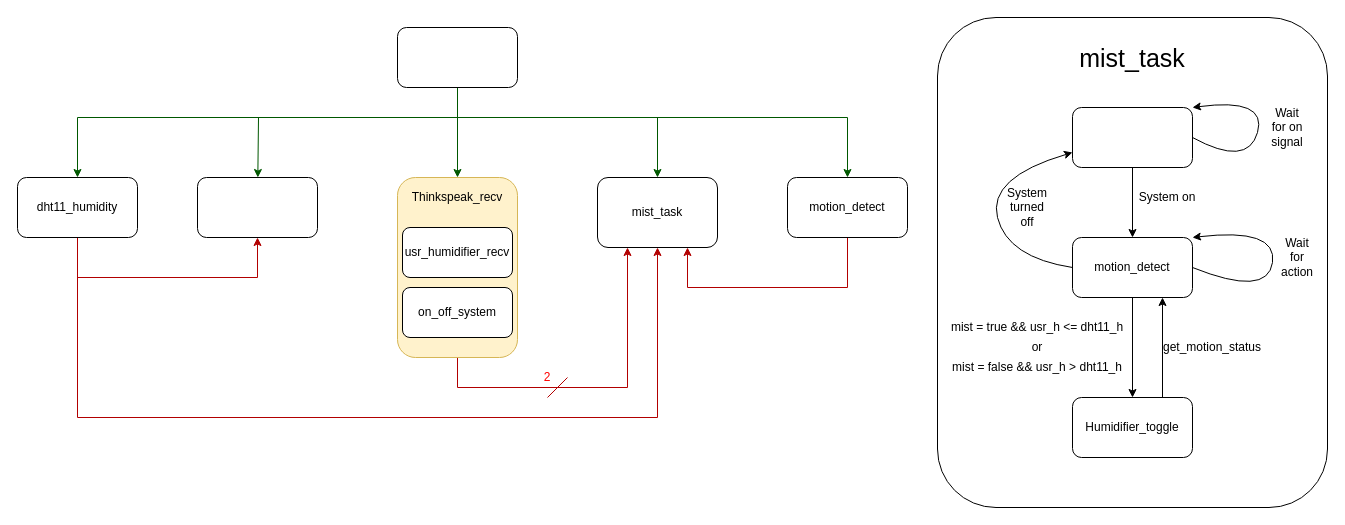
This 1345x525 diagram has some shape labels left out. Each missing label, with the centre of its shape:
Free_RTOS: (457,57)
System_0n/0ff: (1132,137)
Thinkspeak_send: (257,207)
